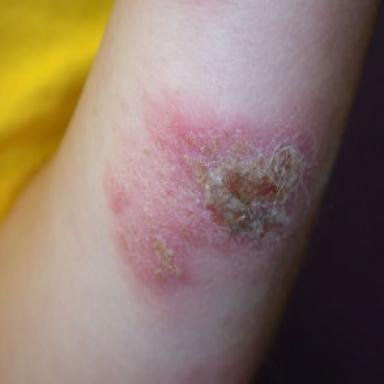eczema: (111, 103, 314, 295)
